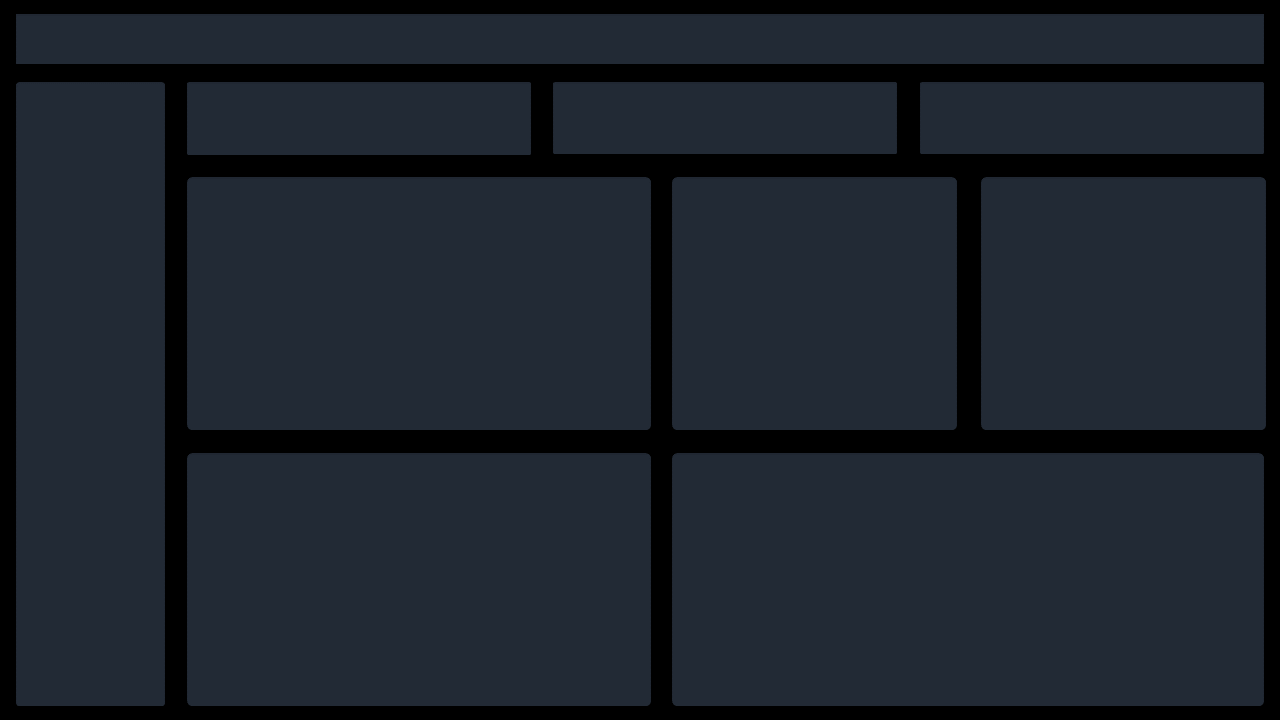

The dashboard page shown, as its layout file describes it:
{"tool":"tableau","page":{"name":"Dashboard_Analysis_Cars","canvas":[1280,720],"ordinal":0},"visuals":[{"type":"image","param":"Image/Slide1.PNG","box":[8,8,1264,704]},{"type":"text","box":[470,29,322,44]},{"type":"worksheet","title":"YTD Total Sales","mark":"Automatic","box":[205,93,322,66]},{"type":"worksheet","title":"YTD Cars Sold","mark":"Automatic","box":[563,97,323,59]},{"type":"worksheet","title":"YTD Avg. Price","mark":"Automatic","box":[916,97,316,59]},{"type":"image","param":"Image/analysis.png","box":[484,100,44,25]},{"type":"image","param":"Image/analysis.png","box":[1202,103,30,25]},{"type":"text","box":[51,112,108,30]},{"type":"text","box":[55,181,100,30]},{"type":"worksheet","title":"YTD Sales Weekly Trend","mark":"Automatic","rows":["Calculation_609393367023677440","Calculation_609393367023677440"],"cols":["Date"],"box":[204,187,445,235]},{"type":"worksheet","title":"YTD Total Sales by Colour","mark":"Pie","rows":["Calculation_609393367043780618","Calculation_609393367043780618"],"box":[974,189,263,227]},{"type":"worksheet","title":"YTD Total Sales by Body Style","mark":"Pie","box":[676,190,263,231]},{"type":"filter","title":"YTD Sales Weekly Trend","param":"[federated.1wbx5nx0xv7wl215w63q61jz9pqo].[yr:Date:ok]","box":[41,222,134,63]},{"type":"filter","title":"YTD Sales Weekly Trend","param":"[federated.1wbx5nx0xv7wl215w63q61jz9pqo].[none:Transmission:nk]","box":[44,315,131,57]},{"type":"filter","title":"YTD Sales Weekly Trend","param":"[federated.1wbx5nx0xv7wl215w63q61jz9pqo].[none:Gender:nk]","box":[43,400,132,59]},{"type":"worksheet","title":"YTD Cars Sold by Dealer Region","mark":"Automatic","rows":["Dealer_Region"],"cols":["Calculation_609393367023677440"],"box":[208,457,426,240]},{"type":"legend","title":"YTD Cars Sold by Dealer Region","param":"[federated.1wbx5nx0xv7wl215w63q61jz9pqo].[none:Transmission:nk]","box":[402,459,243,34]},{"type":"worksheet","title":"Company-Wise Sales Trend ","mark":"Automatic","rows":["Company"],"box":[680,464,552,221]},{"type":"filter","title":"YTD Sales Weekly Trend","param":"[federated.1wbx5nx0xv7wl215w63q61jz9pqo].[none:Color:nk]","box":[43,487,127,64]}]}

Visuals, with their boxes in screenshot pixels (x1, y1, x2, y2), scaled from the page's 1280x720 canvas onto the 1280x720 screenshot:
image: detection(8, 8, 1272, 712)
text: detection(470, 29, 792, 73)
"YTD Total Sales" worksheet: detection(205, 93, 527, 159)
"YTD Cars Sold" worksheet: detection(563, 97, 886, 156)
"YTD Avg. Price" worksheet: detection(916, 97, 1232, 156)
image: detection(484, 100, 528, 125)
image: detection(1202, 103, 1232, 128)
text: detection(51, 112, 159, 142)
text: detection(55, 181, 155, 211)
"YTD Sales Weekly Trend" worksheet: detection(204, 187, 649, 422)
"YTD Total Sales by Colour" worksheet (Pie marks): detection(974, 189, 1237, 416)
"YTD Total Sales by Body Style" worksheet (Pie marks): detection(676, 190, 939, 421)
"YTD Sales Weekly Trend" filter: detection(41, 222, 175, 285)
"YTD Sales Weekly Trend" filter: detection(44, 315, 175, 372)
"YTD Sales Weekly Trend" filter: detection(43, 400, 175, 459)
"YTD Cars Sold by Dealer Region" worksheet: detection(208, 457, 634, 697)
"YTD Cars Sold by Dealer Region" legend: detection(402, 459, 645, 493)
"Company-Wise Sales Trend " worksheet: detection(680, 464, 1232, 685)
"YTD Sales Weekly Trend" filter: detection(43, 487, 170, 551)
